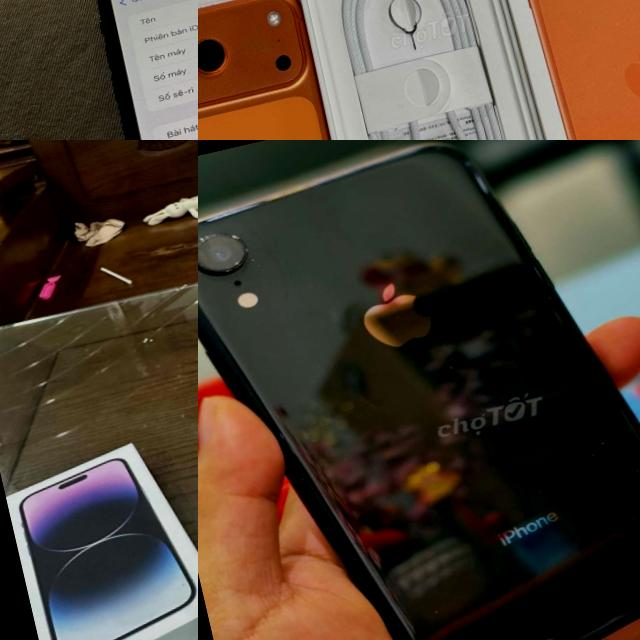gen_17: (198, 0, 402, 140)
gen_x_xs: (198, 140, 640, 640), (63, 0, 198, 140)
scratch: (232, 237, 260, 265), (436, 357, 464, 377), (226, 224, 246, 250), (625, 456, 640, 482), (198, 246, 210, 275), (625, 512, 640, 526), (427, 608, 443, 620), (198, 231, 207, 249), (594, 438, 606, 450), (198, 289, 204, 307)
